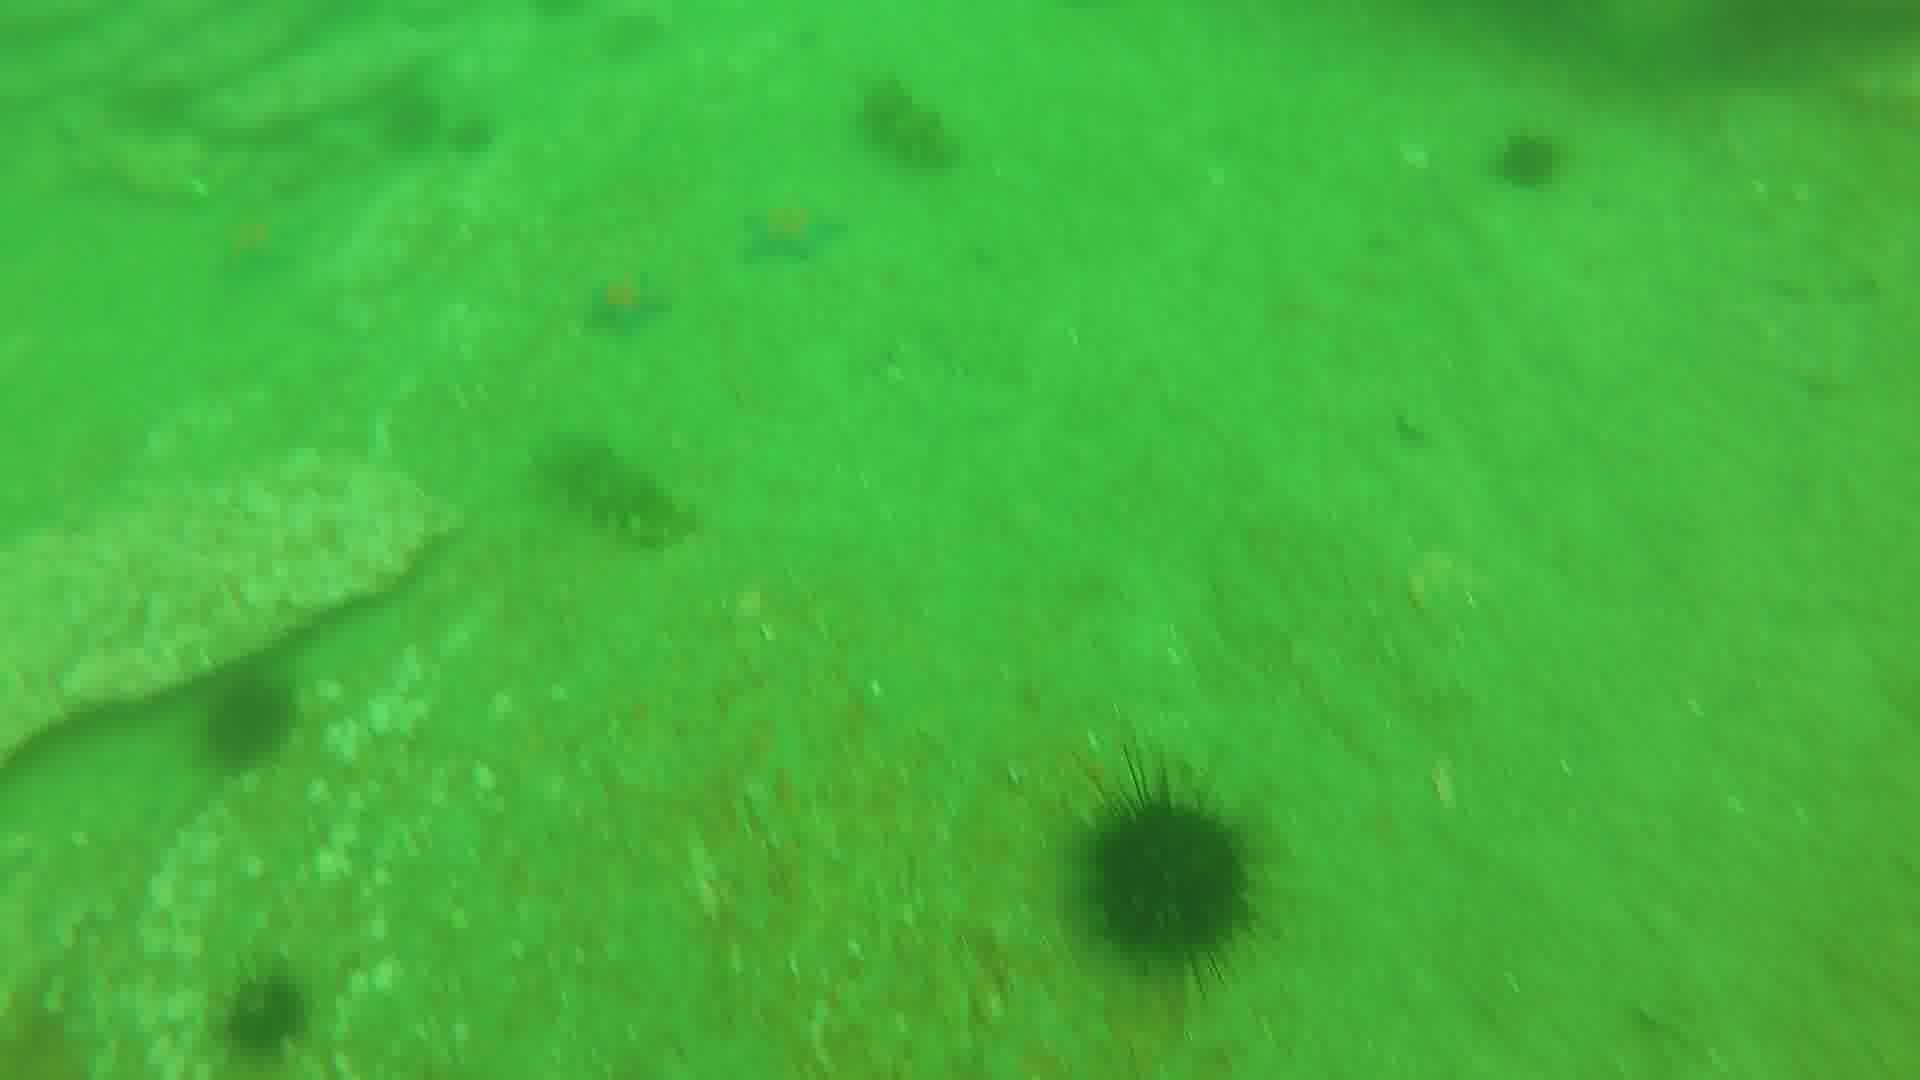echinus: (1079, 771, 1271, 978), (199, 670, 306, 771), (222, 968, 316, 1065), (375, 88, 446, 156), (1497, 127, 1569, 193)
holothurian: (525, 433, 688, 549), (852, 78, 965, 175)
starfish: (214, 204, 316, 278), (738, 193, 841, 265), (589, 270, 669, 335)
